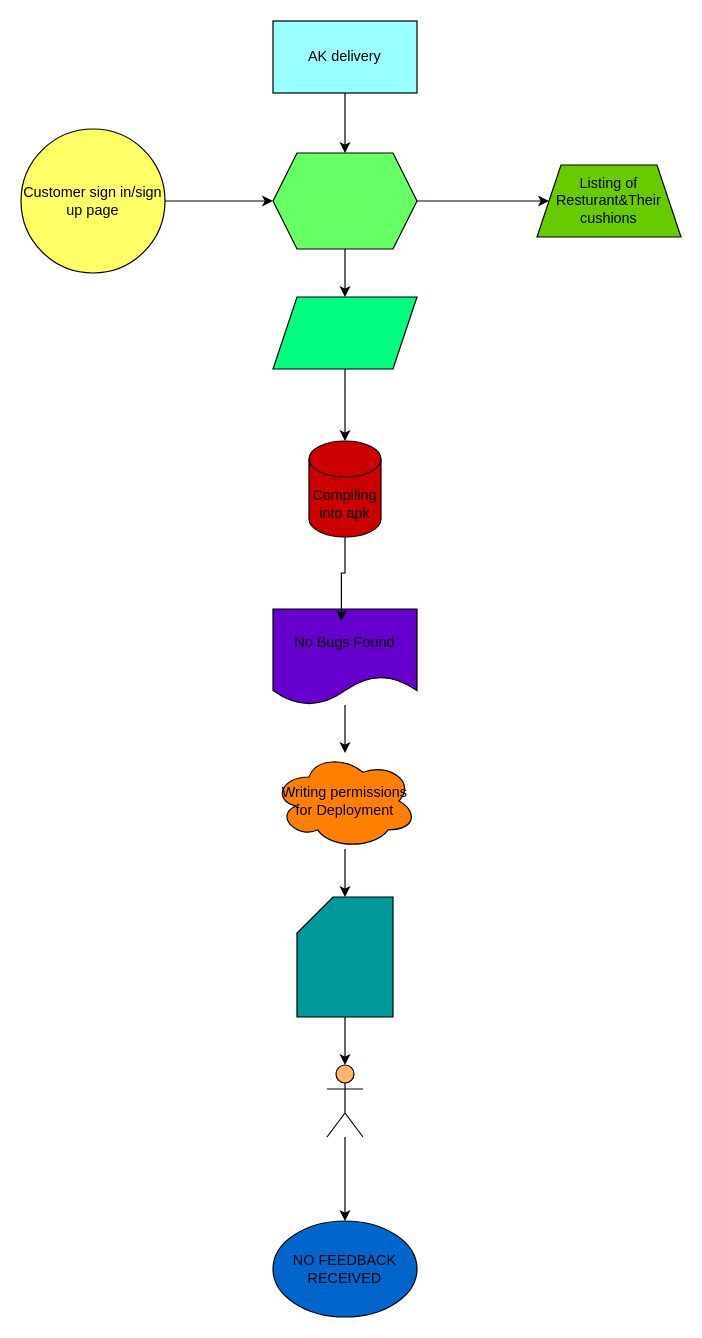
The diagram is 702 pixels wide and 1338 high, and some of its shapes have lost their labels. Each missing label, with the centre of its shape:
Checkout Page & RTS: point 344,332
Customer using application: point 344,1100
Design UI/UX: point 344,200
Releasing Into APP STORE: point 344,956
